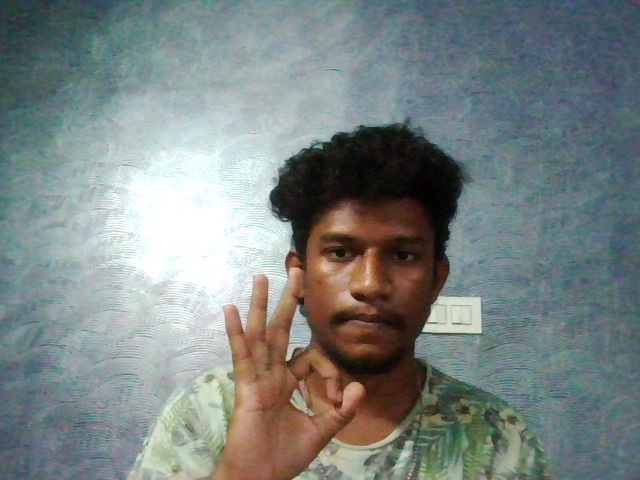good: (173, 254, 396, 480)
